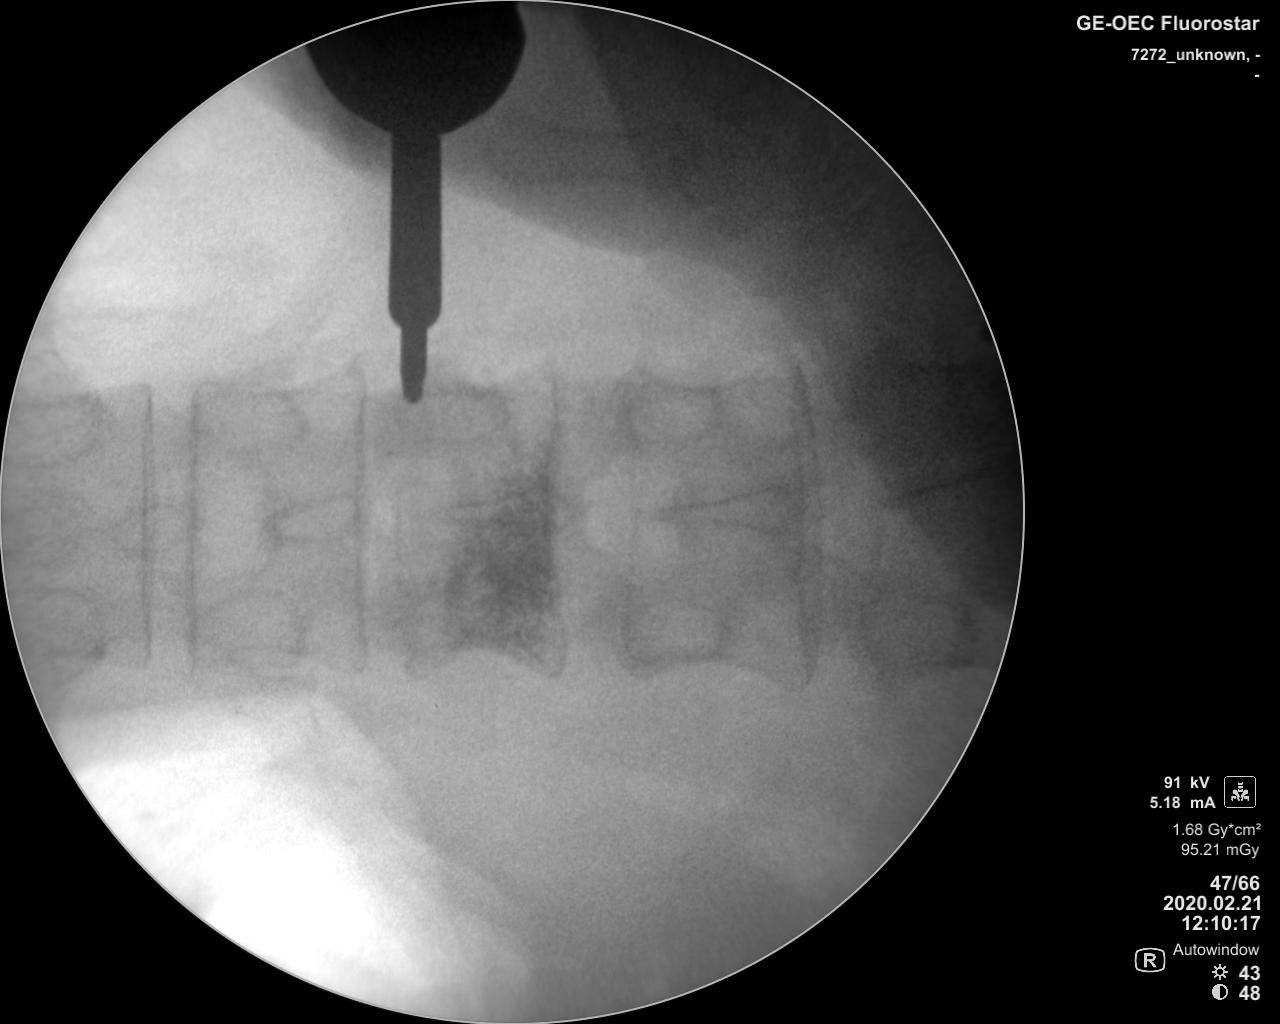eyes: (851, 591, 962, 676), (618, 363, 719, 450), (621, 589, 725, 673), (189, 589, 303, 666), (395, 581, 492, 655), (24, 598, 116, 674), (193, 385, 304, 447), (397, 385, 508, 443), (13, 391, 108, 459)
line: (781, 350, 832, 702), (530, 351, 574, 698), (338, 341, 374, 686), (132, 369, 166, 685), (181, 363, 204, 693)
nose: (632, 484, 815, 546), (413, 487, 587, 543), (245, 489, 367, 541), (91, 498, 203, 554)
